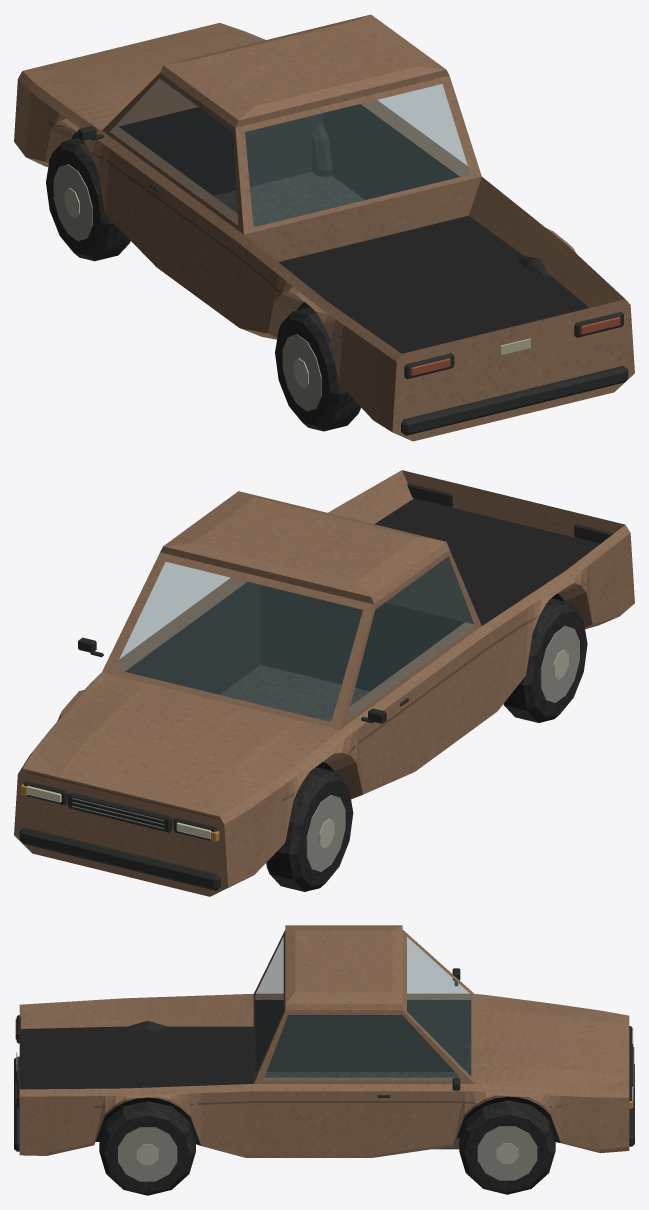
The model's file is vehicle_pickup.glb.
3 renders of one model, top to bottom at view 1: azimuth 30°, elevation 25°; view 2: azimuth 150°, elevation 25°; view 3: azimuth 270°, elevation 25°, orthographic. The views are drawn at different scales.
Parts seen in each view (by area): view 1: closed_body, glazing, roof_body; view 2: closed_body, glazing, roof_body; view 3: closed_body, glazing, roof_body.
Boxes of the visible parts, left/top/right/bottom form: closed_body: left=14, top=23, right=634, bottom=441; glazing: left=110, top=78, right=469, bottom=226; roof_body: left=160, top=14, right=449, bottom=127; closed_body: left=14, top=470, right=634, bottom=896; glazing: left=115, top=556, right=474, bottom=721; roof_body: left=160, top=491, right=449, bottom=604; closed_body: left=14, top=930, right=634, bottom=1195; glazing: left=255, top=937, right=471, bottom=1080; roof_body: left=285, top=925, right=402, bottom=1010.
Bounding box in the file's own units: 2.27 × 1.72 × 5.15.
2 materials, 2 textured.
